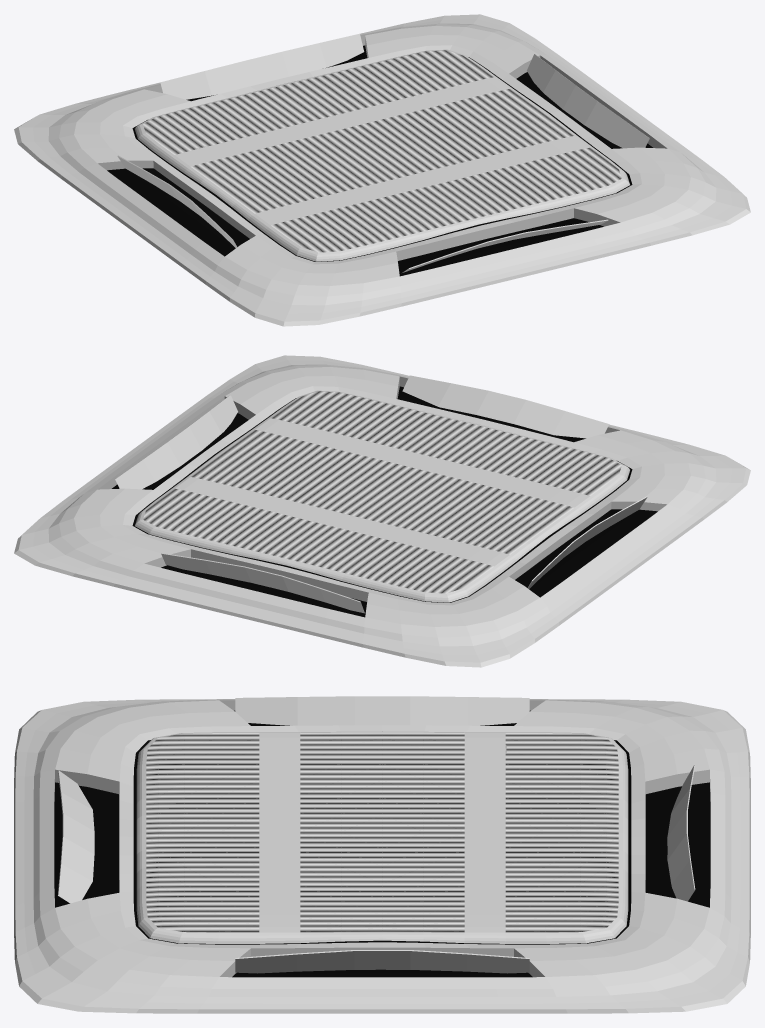
3 renders of one model, top to bottom at view 1: azimuth 30°, elevation 25°; view 2: azimuth 150°, elevation 25°; view 3: azimuth 270°, elevation 25°, orthographic. The views are drawn at different scales.
Visible parts, largest first — view 1: AcLow; view 2: AcLow; view 3: AcLow.
Part boxes in pixels (x1,y1,x2,y2): AcLow: [14, 14, 750, 326]; AcLow: [14, 355, 750, 667]; AcLow: [14, 696, 750, 1013].
Size of the model in its own units: 2.97 by 0.1589 by 2.97.
Materials: 3 (1 with a texture image).
